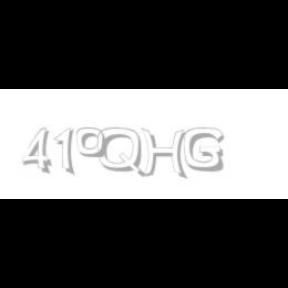1: (53, 128, 75, 176)
4: (21, 128, 52, 174)
G: (184, 128, 224, 172)
H: (141, 128, 187, 180)
Q: (98, 128, 144, 178)
o: (76, 128, 106, 158)
